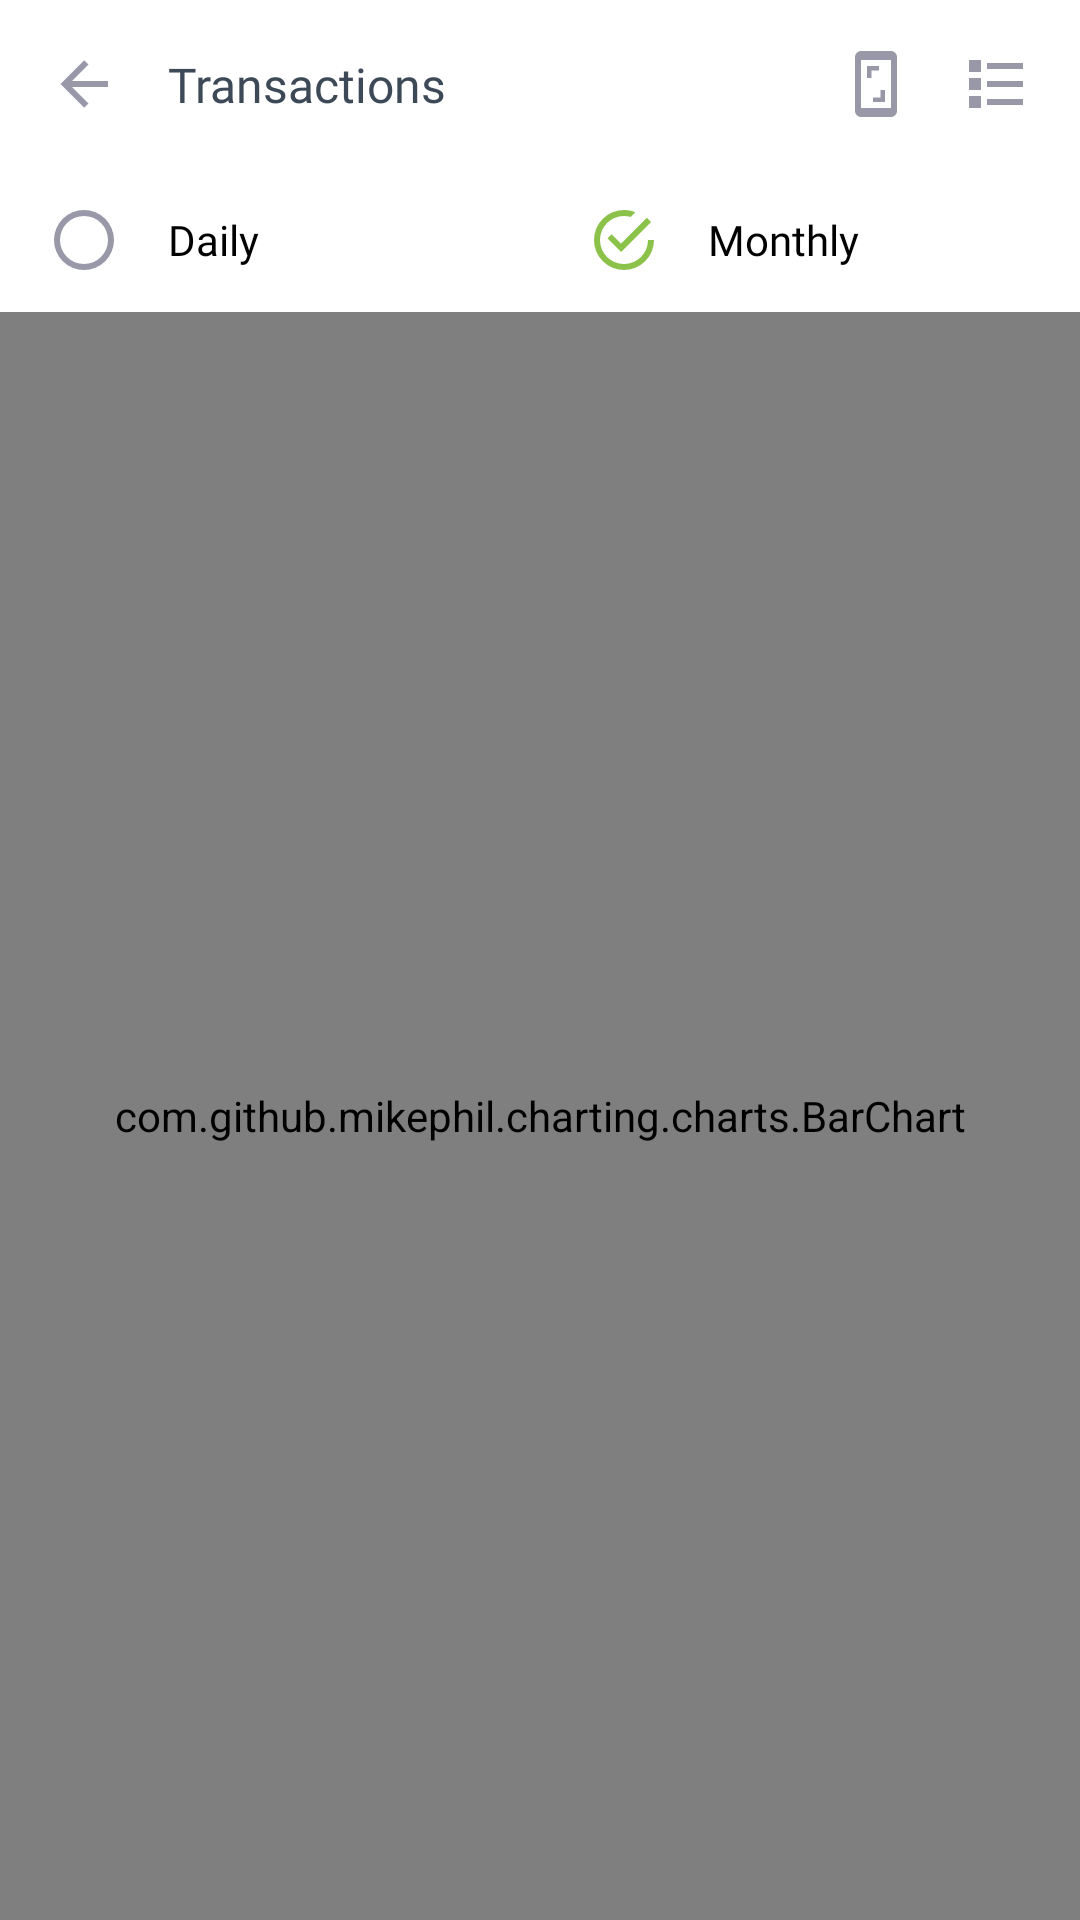

Where icons sit on this 1080x1920 app screen, as (x1, y1, x2, y2):
back: (61, 60, 108, 108)
list: (969, 60, 1023, 108)
